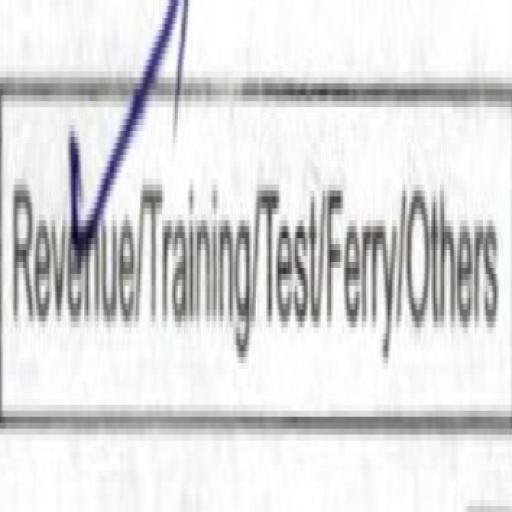check: (3, 4, 139, 472)
